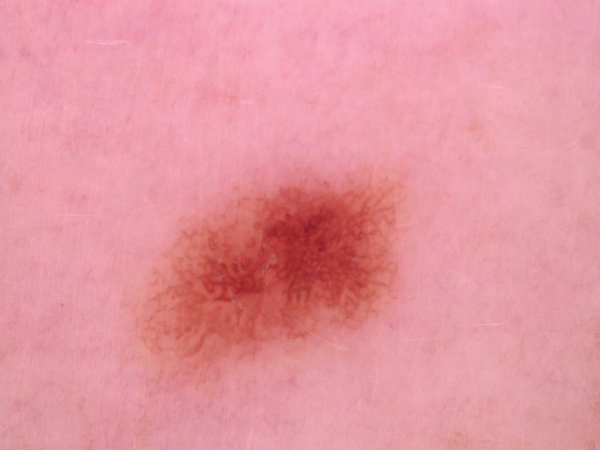Detected Lesion: (141, 179, 403, 369)
